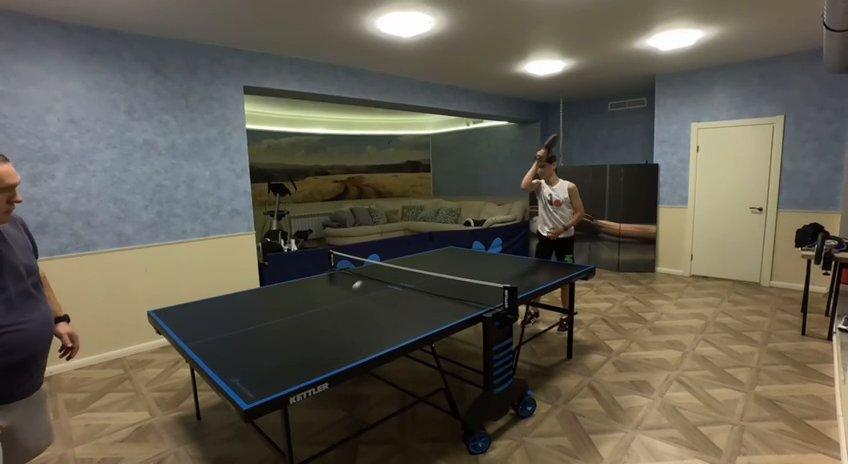Ball: (351, 279, 364, 291)
Net: (326, 249, 521, 316)
Player1: (522, 148, 584, 259)
Player2: (0, 154, 79, 463)
Table: (147, 247, 597, 419)
